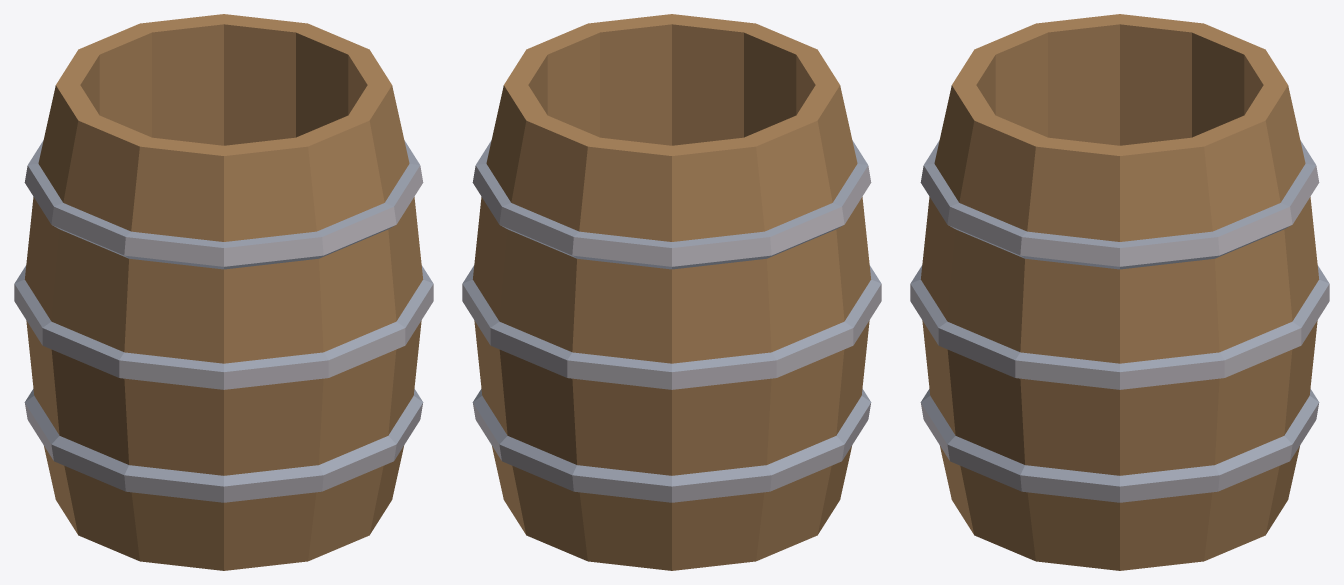
File: barrel_empty.fbx
3 renders of one model, left to right at view 1: azimuth 30°, elevation 25°; view 2: azimuth 150°, elevation 25°; view 3: azimuth 270°, elevation 25°, orthographic.
Visible parts, largest first — view 1: barrel_empty; view 2: barrel_empty; view 3: barrel_empty.
Part boxes in pixels (x1=…): barrel_empty: x1=14, y1=14, x2=433, y2=570; barrel_empty: x1=462, y1=14, x2=881, y2=570; barrel_empty: x1=910, y1=14, x2=1329, y2=570.
Bounding box in the file's own units: 380 × 415 × 380.
